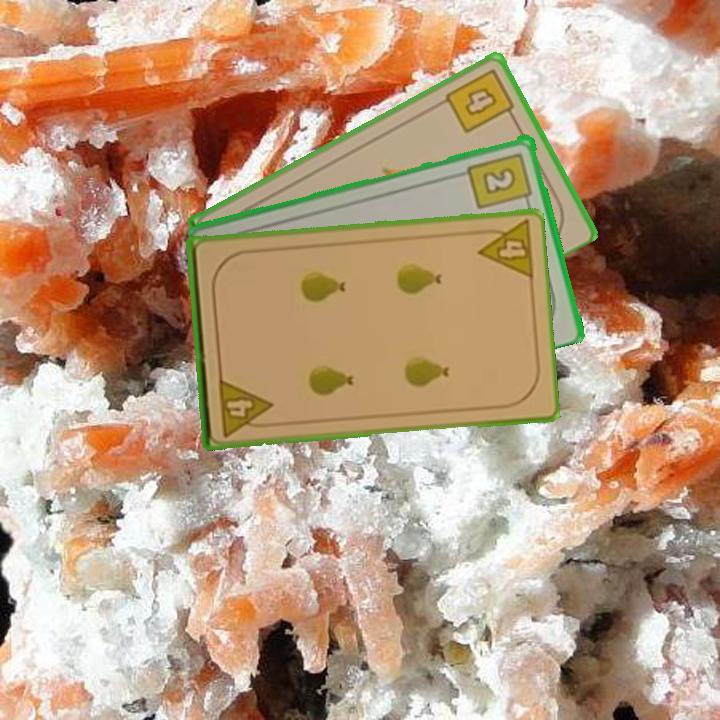2b: (464, 148, 535, 212)
4b: (441, 64, 519, 136)
4p: (471, 217, 536, 282), (214, 374, 275, 439)
